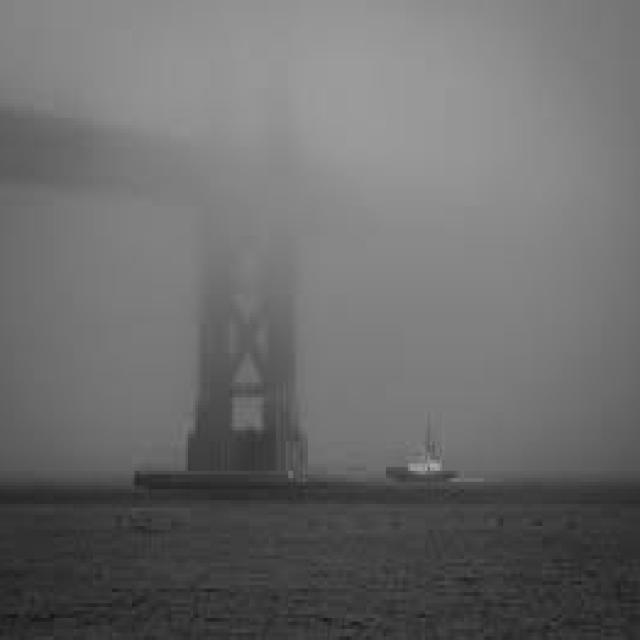cargoship: (378, 390, 468, 484)
